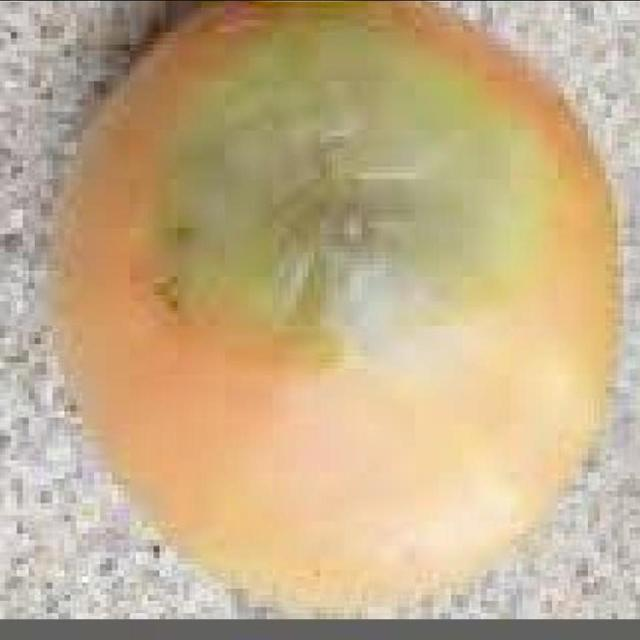Blossom End Rot Fruit: (94, 12, 384, 330)
